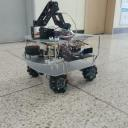cart: (22, 34, 100, 94)
